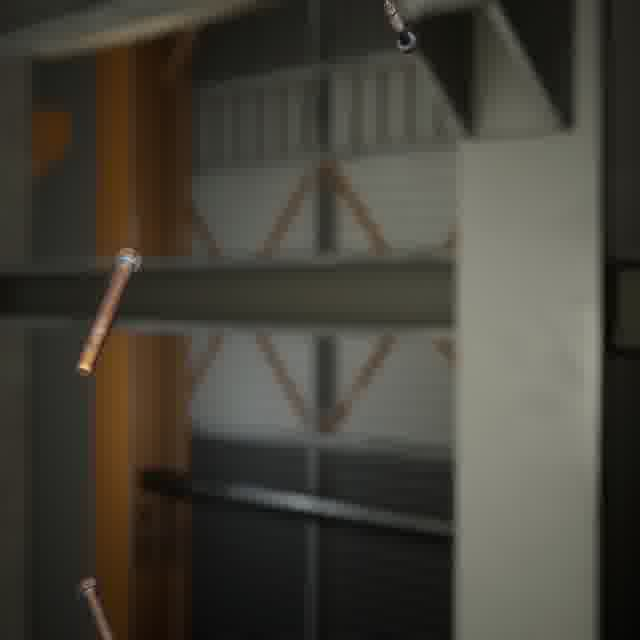bolt: (71, 243, 147, 381), (71, 573, 120, 640), (379, 0, 422, 58)
